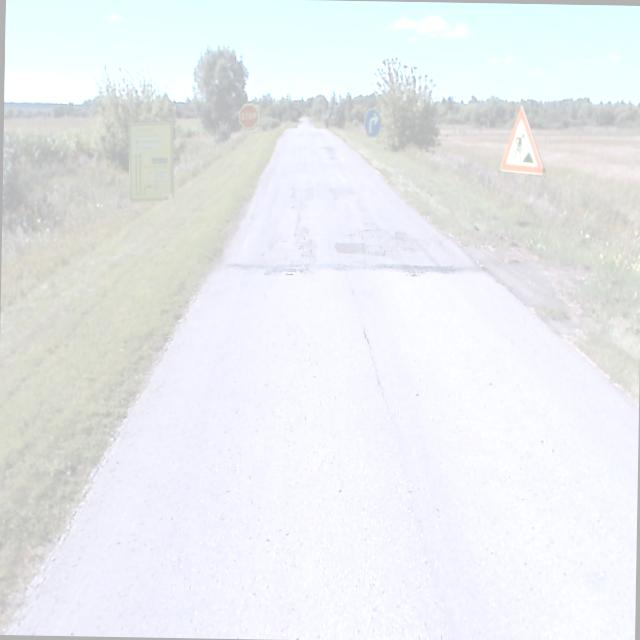road: (17, 128, 638, 640)
